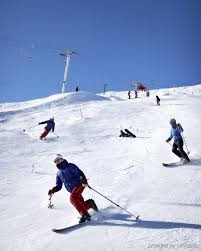skier: (45, 153, 143, 234), (161, 118, 194, 167)
